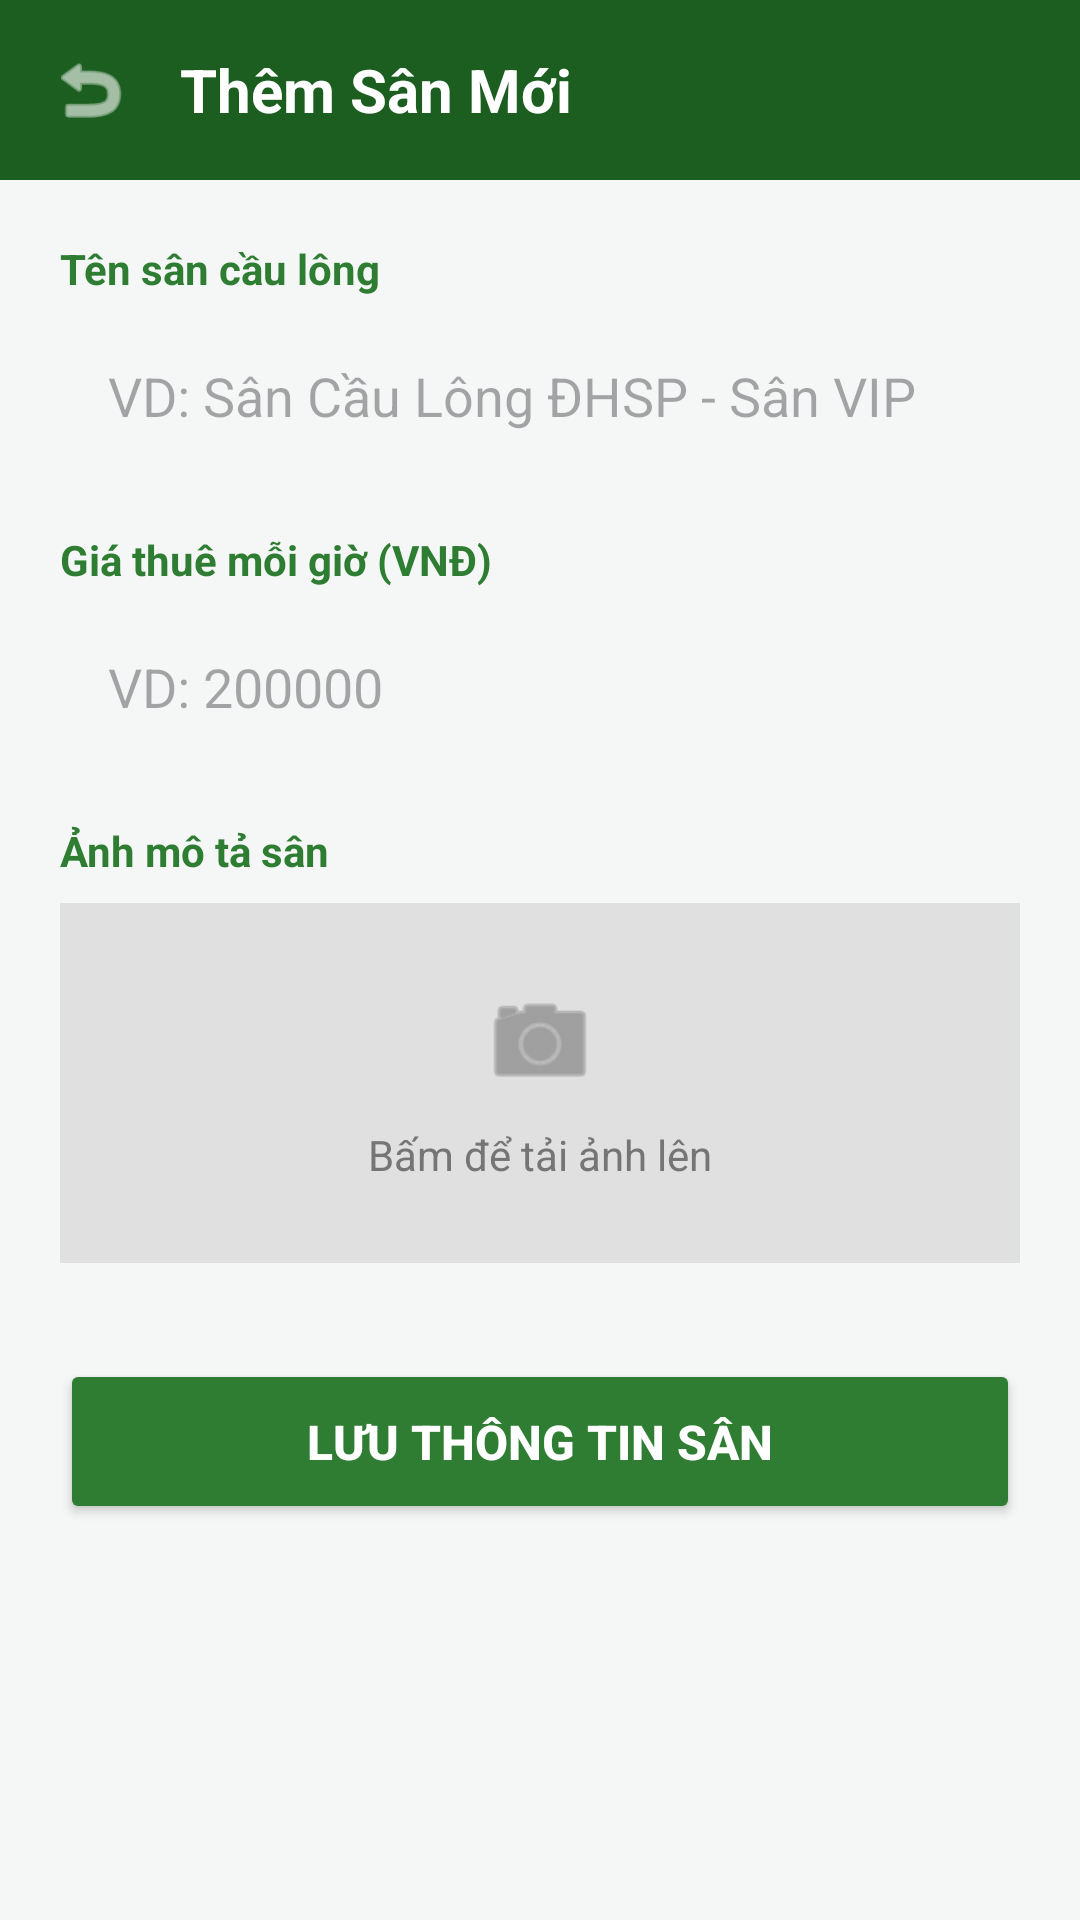

Locate icon controls on the screen. Image size 1080w x 1920h, boxes as (x1, y1, x2, y2).
camera: (494, 1004, 586, 1077)
revert: (61, 63, 121, 118)
